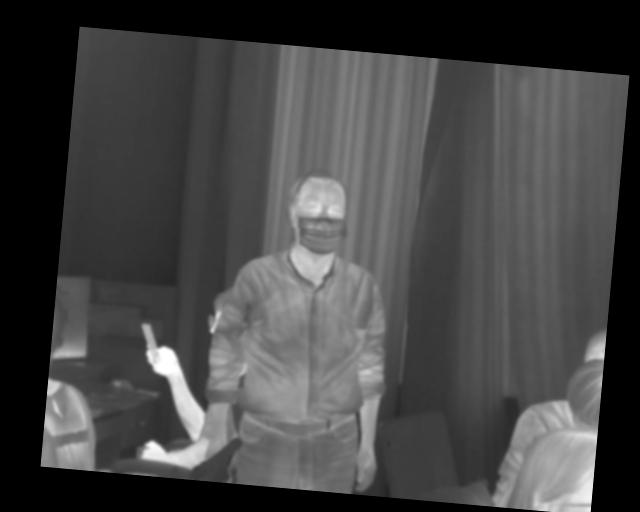face: (283, 167, 353, 257)
